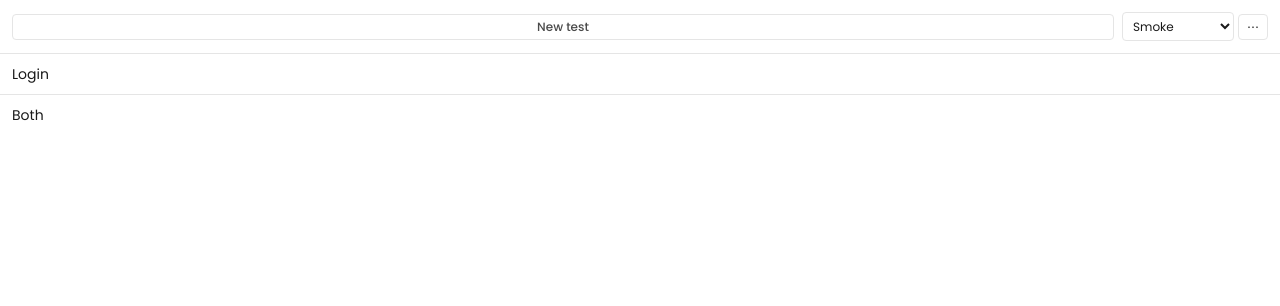
Test case: SuiteFilter › deletes the suite after confirming, and goes back to All tests
Click the button named "Suite actions" at (1253, 26), box [1238, 14, 1268, 40]
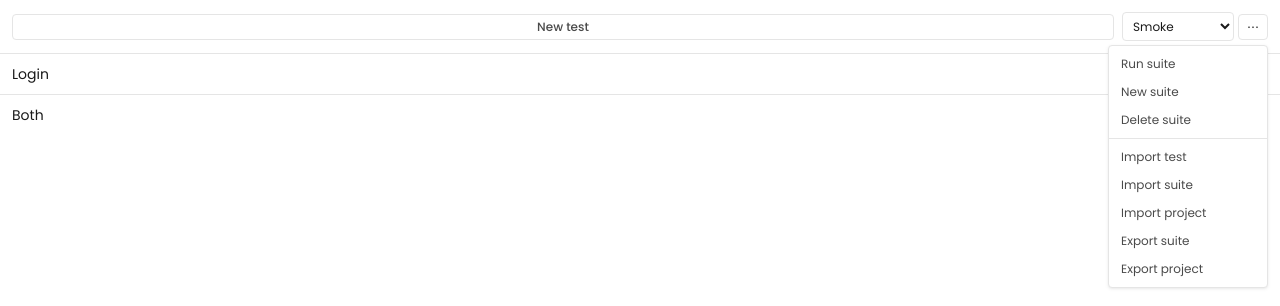
Click the menu item "Delete suite" at (1188, 120), box [1109, 106, 1267, 134]
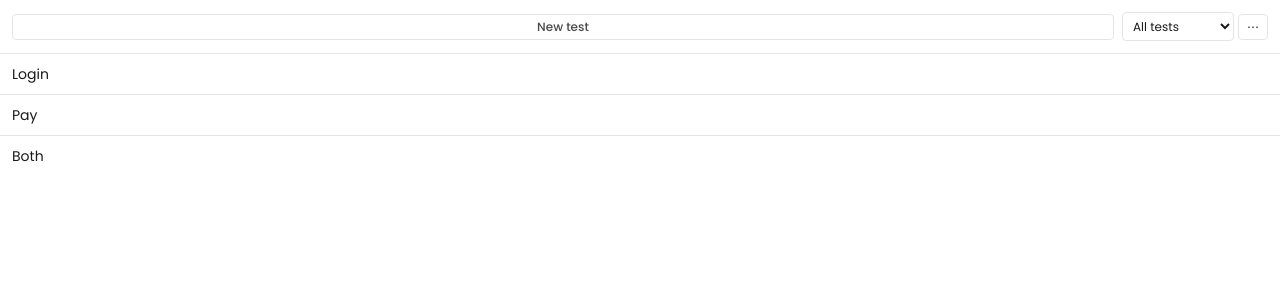
Now the dropdown named "Suite" shows "All tests", box [1122, 12, 1234, 41]
